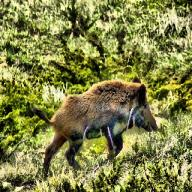boar: (30, 76, 158, 174)
